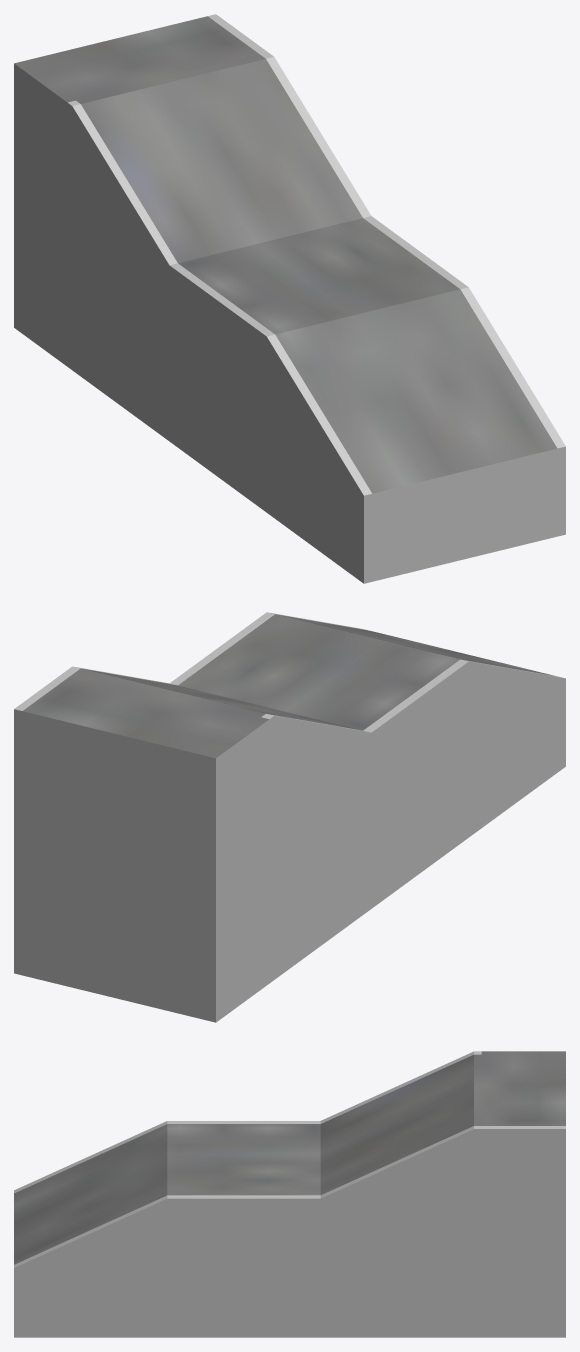
The model's file is JpHouse_23a_site2.fbx.
3 renders of one model, top to bottom at view 1: azimuth 30°, elevation 25°; view 2: azimuth 150°, elevation 25°; view 3: azimuth 270°, elevation 25°, orthographic. The views are drawn at different scales.
Visible parts, largest first — view 1: JpHouse_23a_site2; view 2: JpHouse_23a_site2; view 3: JpHouse_23a_site2.
Part boxes in pixels (x1=…): JpHouse_23a_site2: x1=14, y1=14, x2=565, y2=583; JpHouse_23a_site2: x1=14, y1=612, x2=565, y2=1022; JpHouse_23a_site2: x1=14, y1=1051, x2=565, y2=1337.
Size of the model in its own units: 2.4 by 3 by 7.2.
